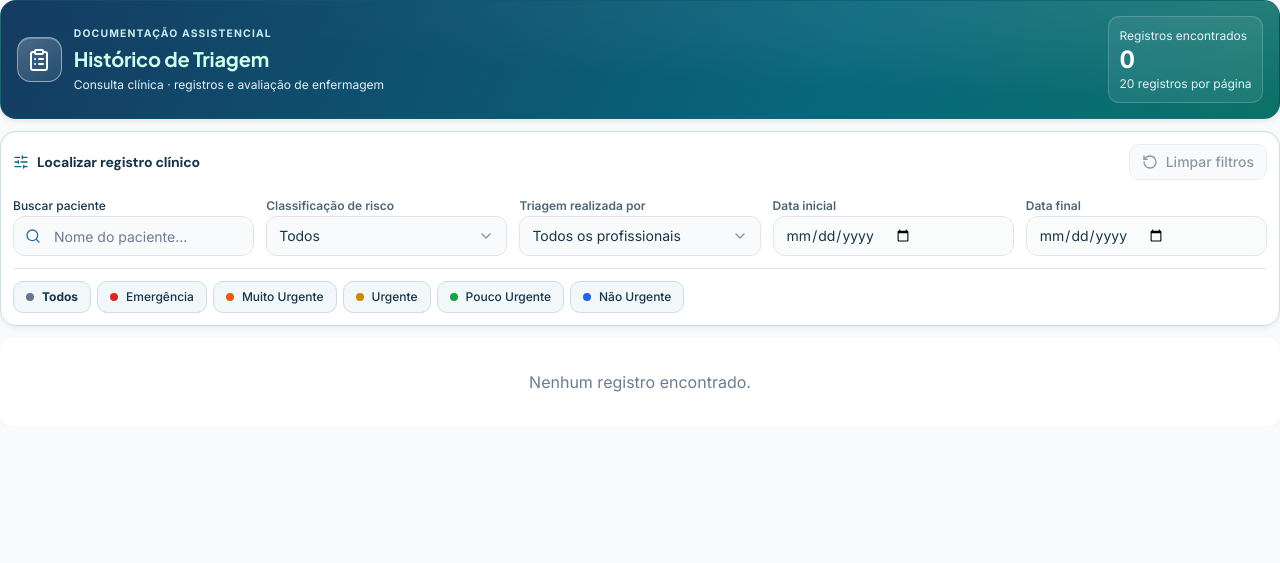
Test: Histórico de Triagem: carregamento, erro e vazio › permite pesquisar imediatamente por lupa
The image size is (1280, 563).
expect the text "Nenhum registro encontrado." is shown: met, box [529,372,751,392]
Step 1. Type "Paciente" into the field with placeholder "Nome do paciente..." → (134, 236), box [13,216,254,256]
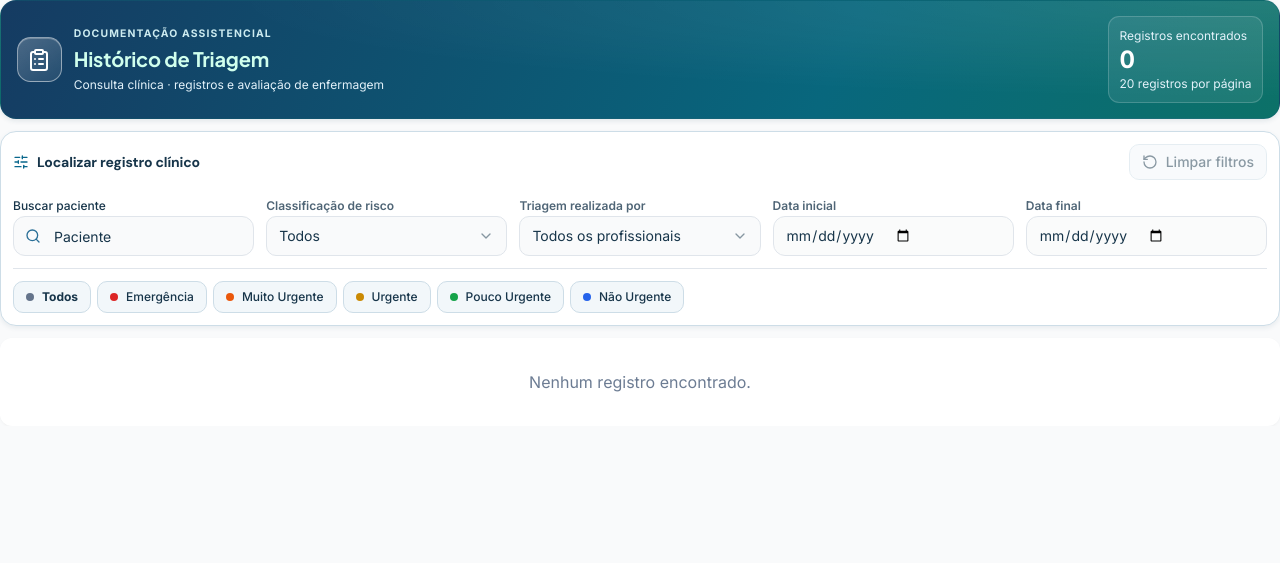
Step 2. Click the button named "Pesquisar paciente" → (33, 236), box [17,220,49,252]
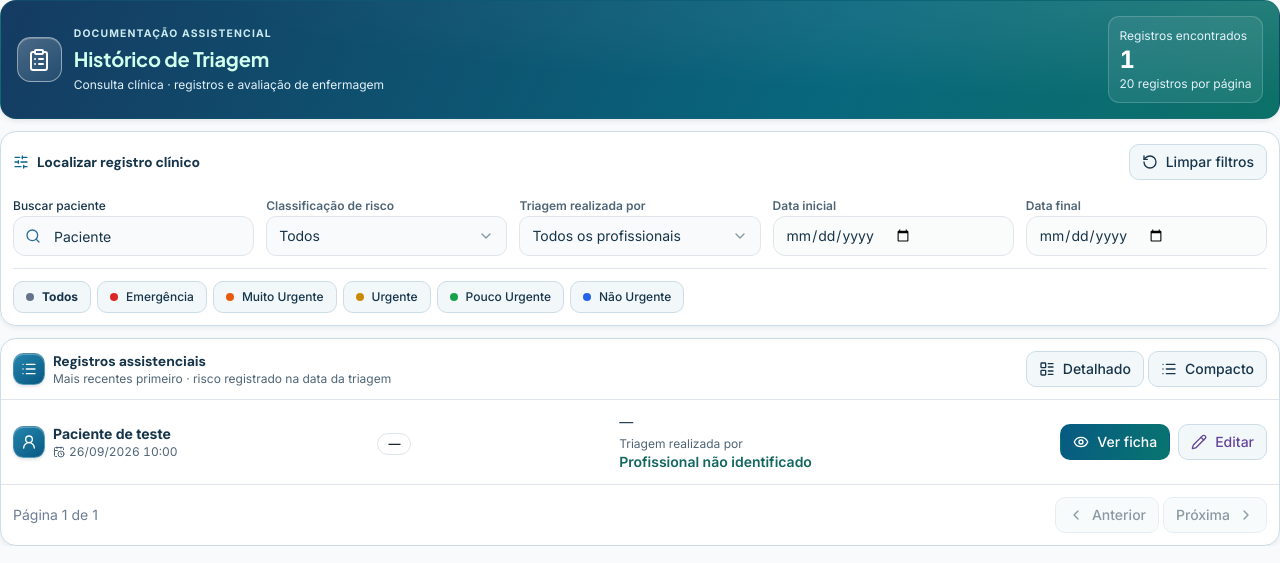
expect the text "Paciente de teste" is shown: met, box [53,424,178,444]
